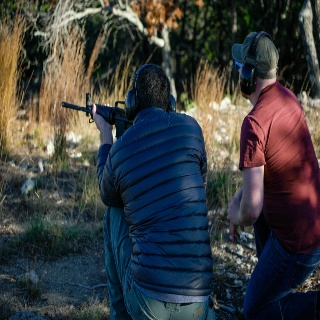rifle: (60, 90, 137, 138)
